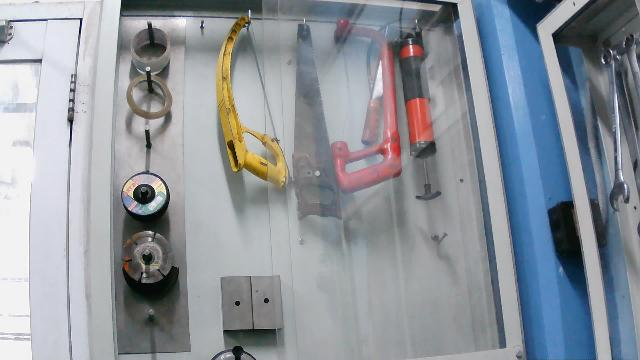gergaji_besi: (330, 19, 405, 194)
